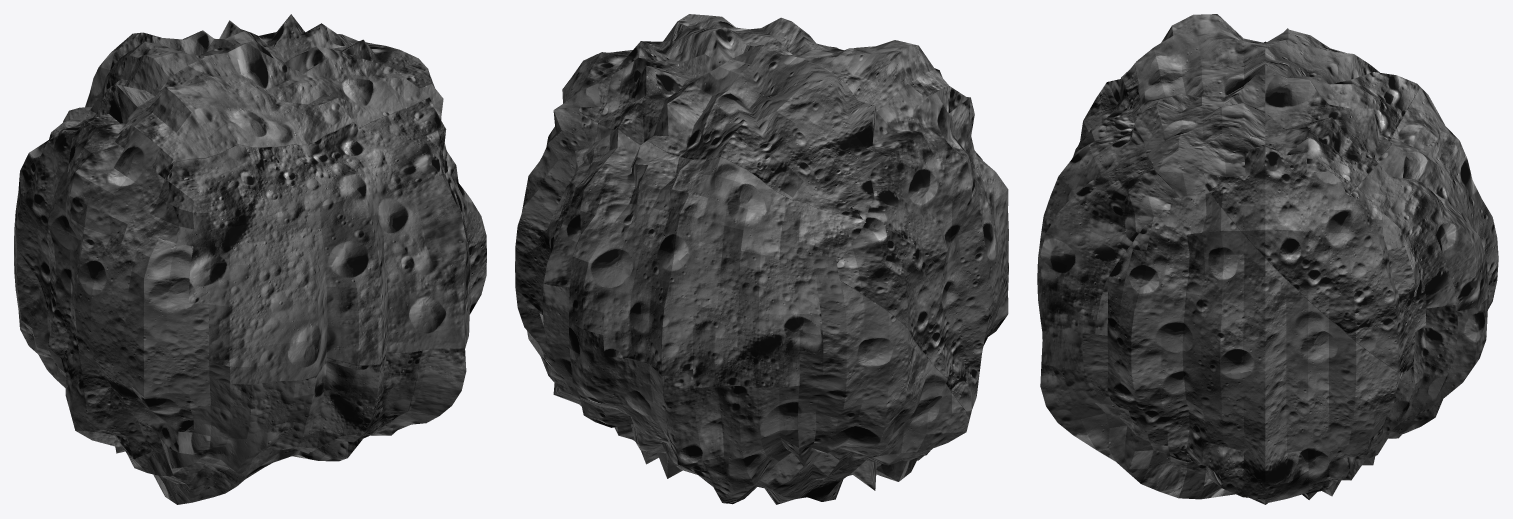
File: asteroid102.obj
3 renders of one model, left to right at view 1: azimuth 30°, elevation 25°; view 2: azimuth 150°, elevation 25°; view 3: azimuth 270°, elevation 25°, orthographic. The views are drawn at different scales.
Parts seen in each view (by area): view 1: Cube_Cube.002; view 2: Cube_Cube.002; view 3: Cube_Cube.002.
Part boxes in pixels (x1,y1,x2,y2): Cube_Cube.002: (14, 14, 486, 504); Cube_Cube.002: (515, 14, 1008, 504); Cube_Cube.002: (1037, 14, 1498, 504).
Bounding box in the file's own units: 1.66 × 1.68 × 1.72.
